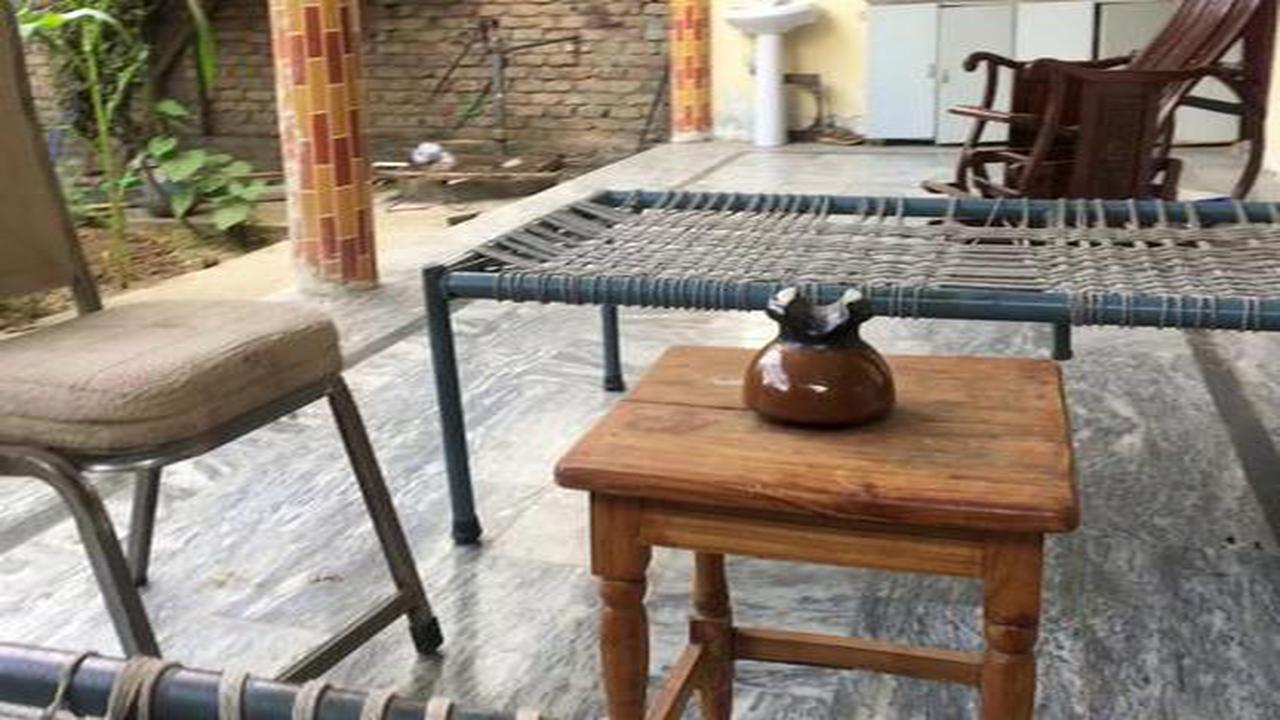insulator_pin: (714, 272, 917, 438)
